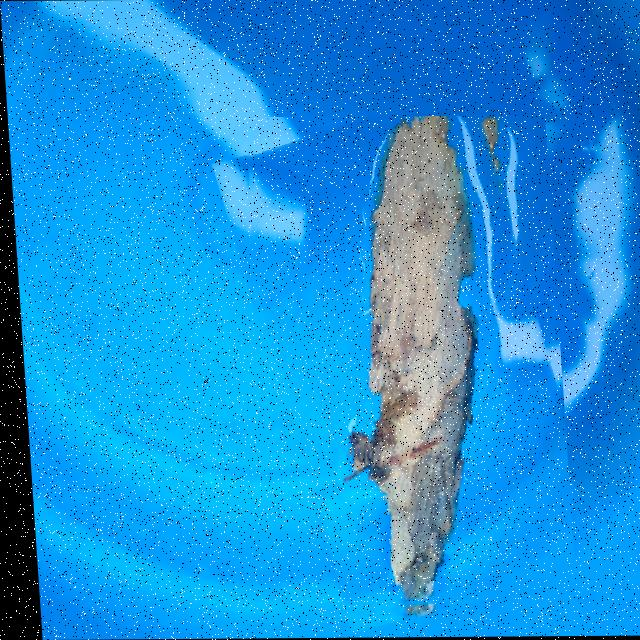litter: (233, 115, 570, 622)
